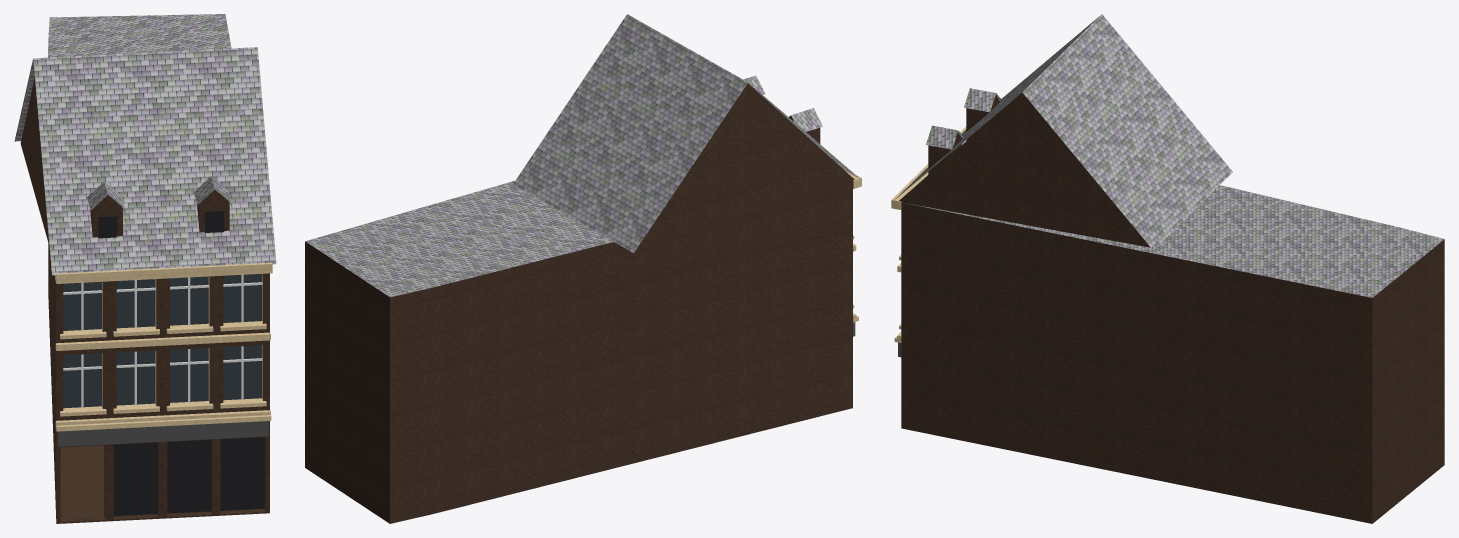
3 renders of one model, left to right at view 1: azimuth 30°, elevation 25°; view 2: azimuth 150°, elevation 25°; view 3: azimuth 270°, elevation 25°, orthographic. The views are drawn at different scales.
Visible parts, largest first — view 1: bldg_496929349_landmark; view 2: bldg_496929349_landmark; view 3: bldg_496929349_landmark.
Boxes of the visible parts, bbox=[...] form: bldg_496929349_landmark: bbox=[14, 14, 276, 523]; bldg_496929349_landmark: bbox=[305, 14, 861, 523]; bldg_496929349_landmark: bbox=[891, 14, 1444, 523].
Size of the model in its own units: 16.64 by 16.1 by 22.42.
Materials: 8 (3 with a texture image).
